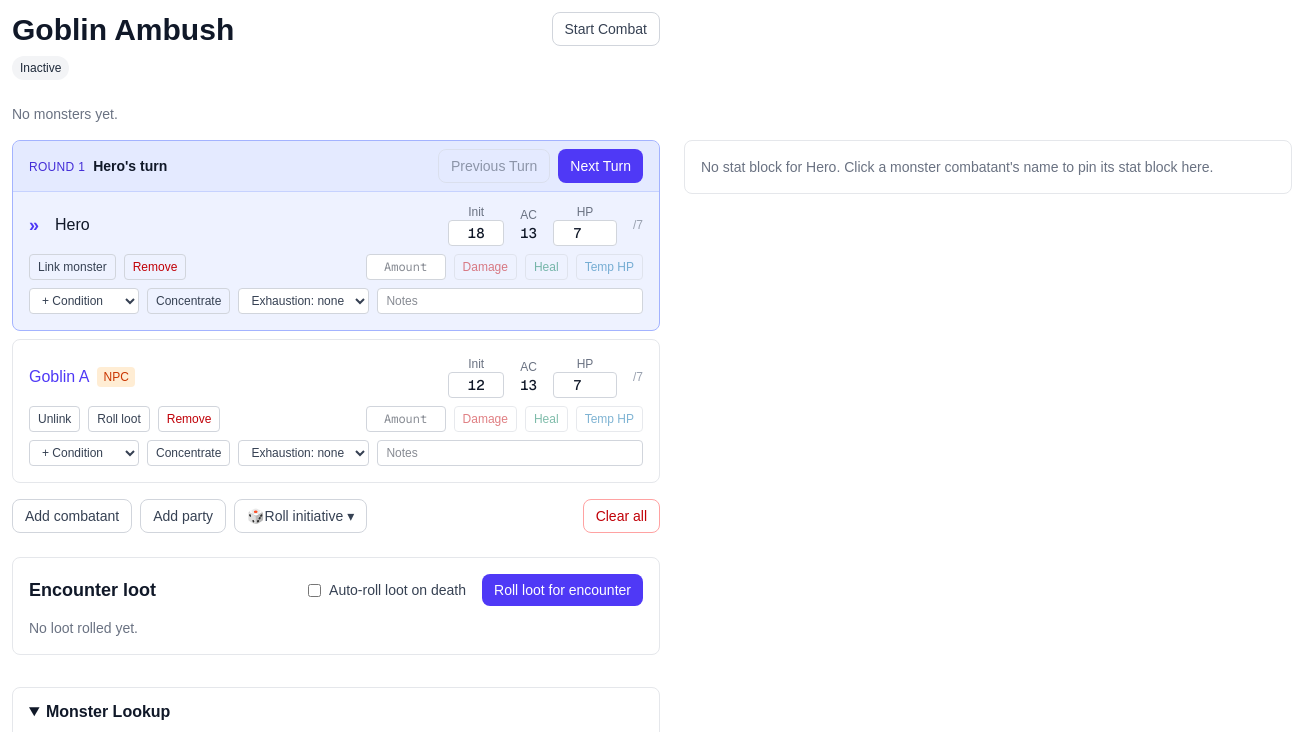
it: live-combat layout (VEG-384) › pins a clicked combatant into the panel instead of opening the modal on wide screens
This screenshot has width=1292, height=732.
Expected: the heading "Goblin Ambush" is shown, [12,12,234,48]
Expected: the text "No stat block for Hero" is shown, [701,157,1275,177]
Click the button "Goblin A" at [59, 377], box [29,365,90,389]
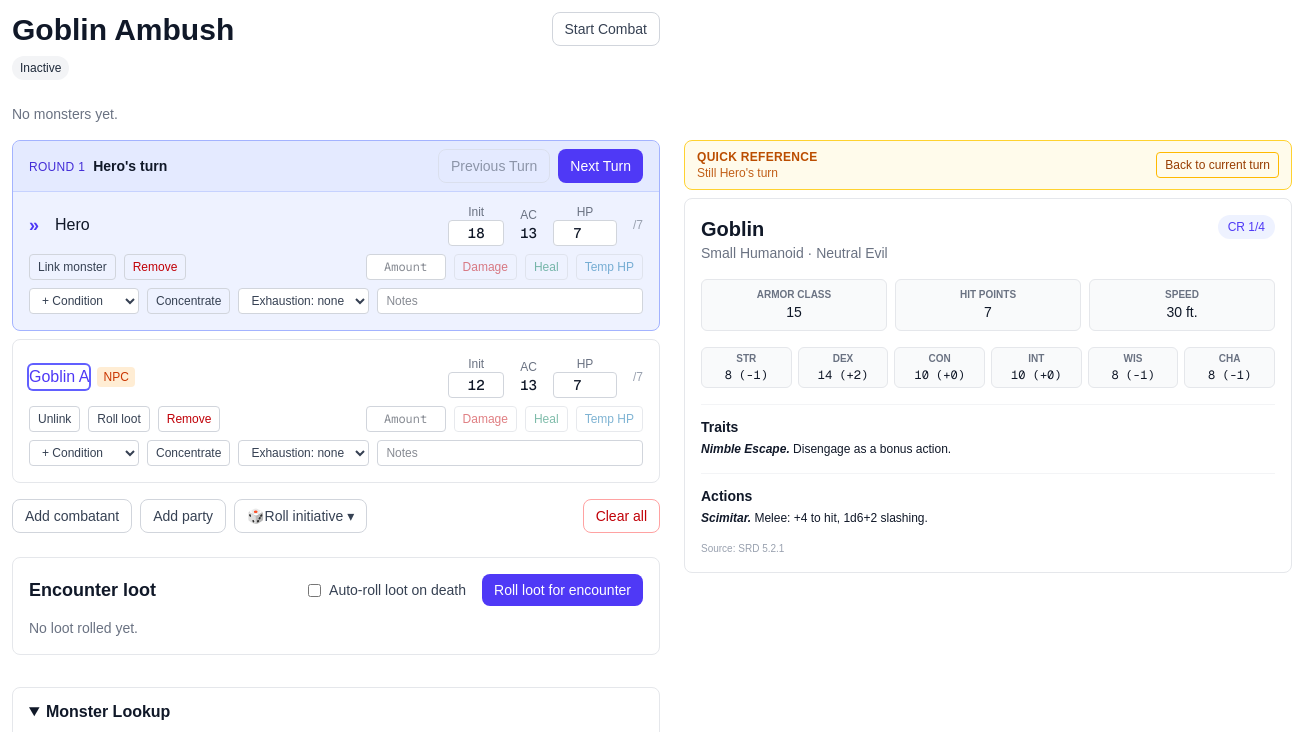
Now the text "Nimble Escape." is shown, box [701,442,790,456]
